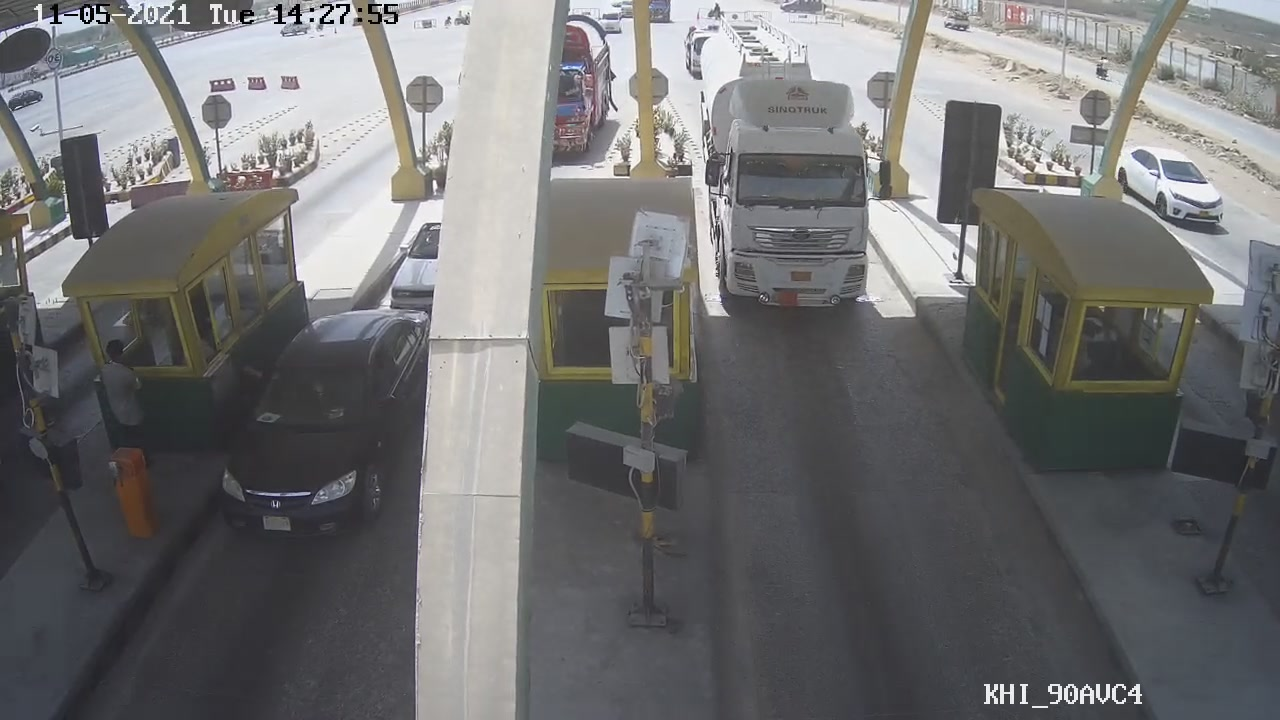F6: (702, 6, 875, 323)
